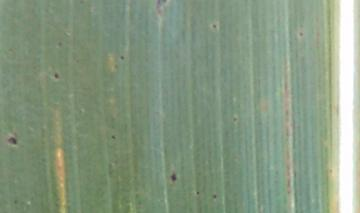tarspot: (153, 1, 171, 16), (167, 167, 179, 185), (5, 135, 19, 147), (52, 71, 62, 82), (230, 114, 239, 124), (12, 196, 20, 207), (117, 54, 128, 61), (211, 192, 219, 200), (210, 23, 219, 30), (298, 31, 306, 38), (110, 134, 117, 141), (194, 189, 201, 196), (57, 41, 64, 47)
